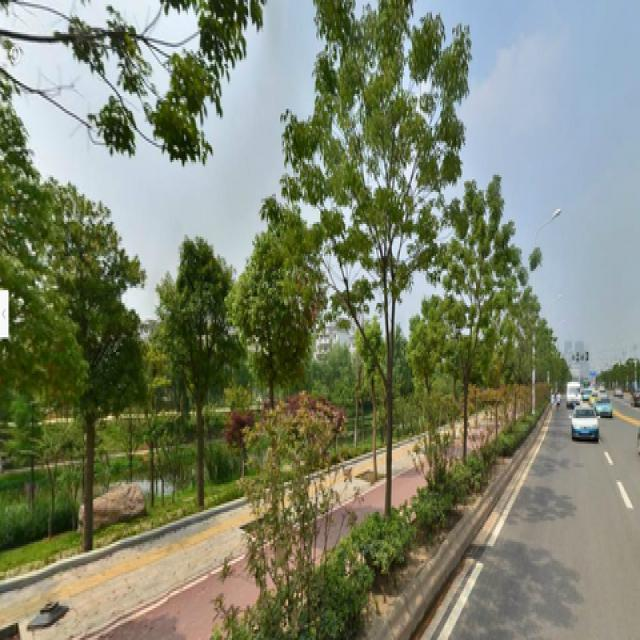sali: (309, 30, 416, 512), (450, 194, 502, 461)
